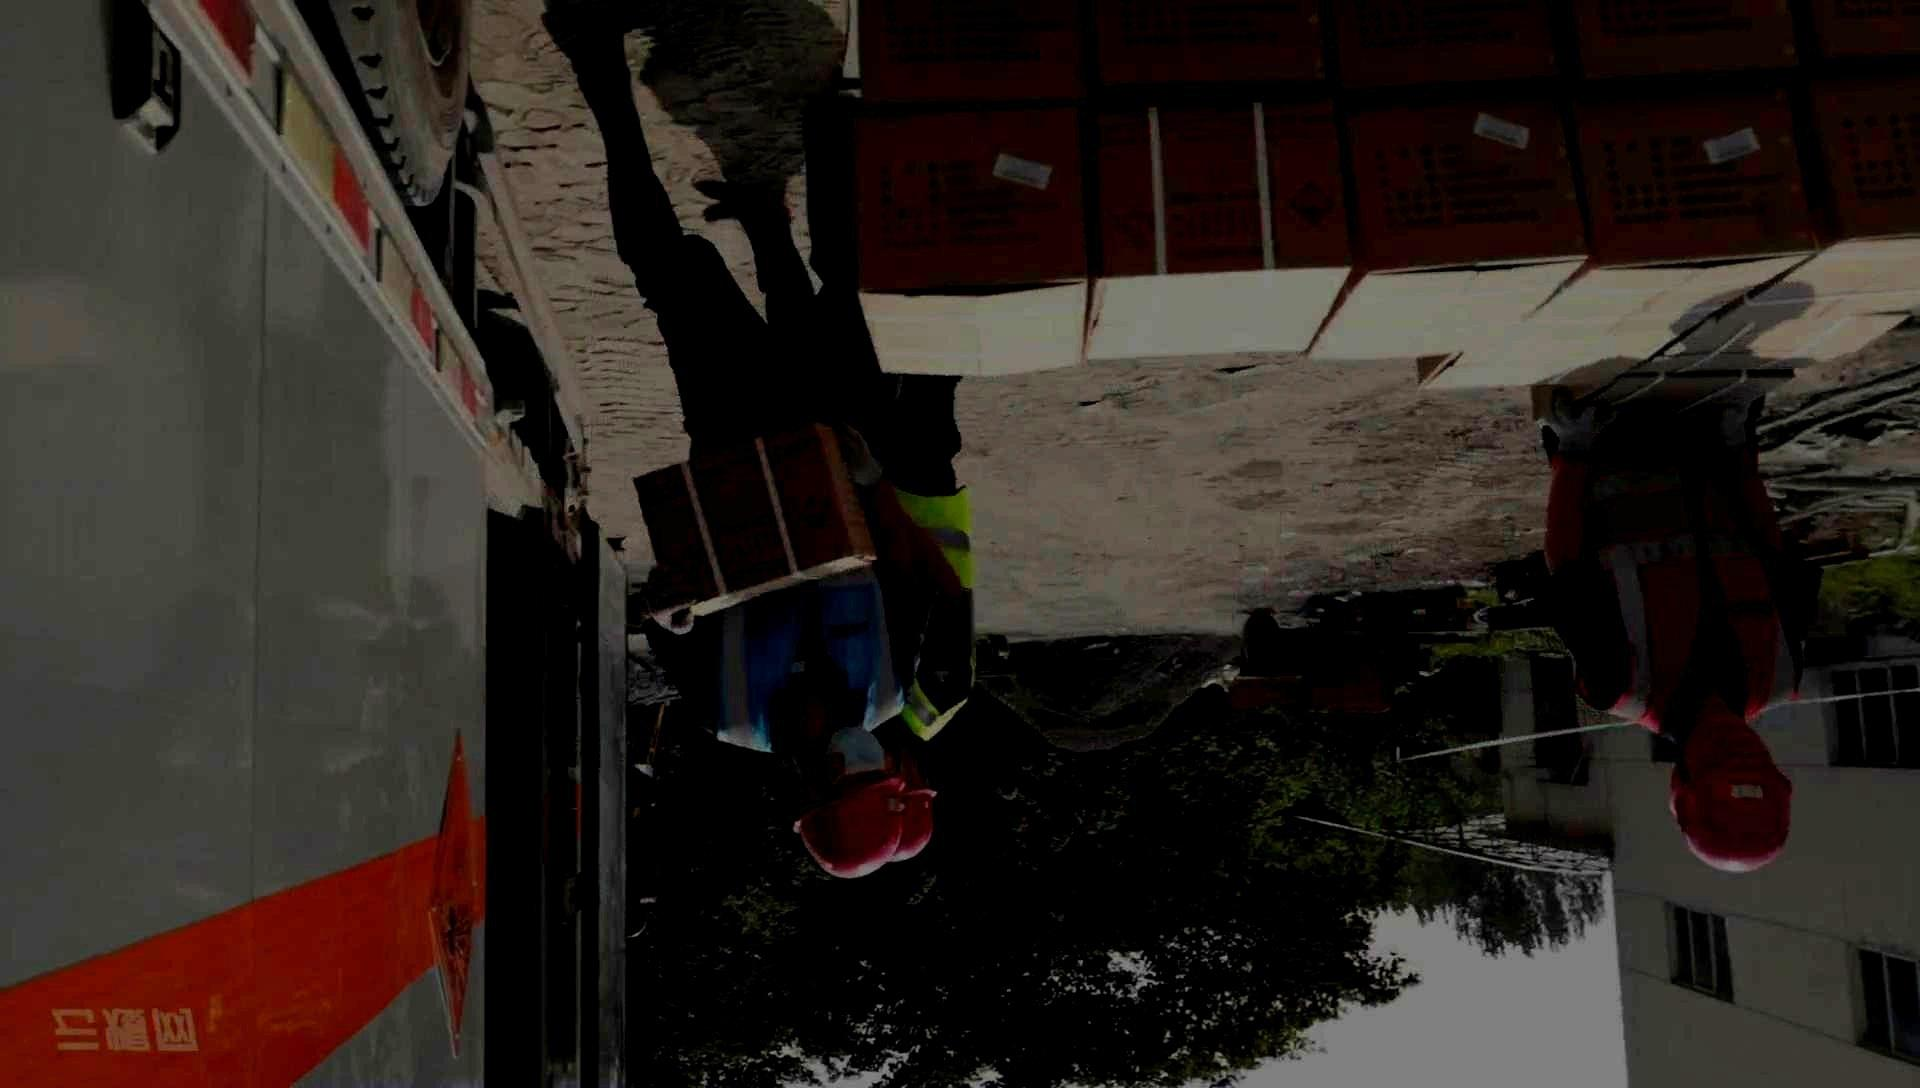helmet: (1668, 716, 1793, 874), (793, 727, 905, 880), (885, 739, 938, 862)
